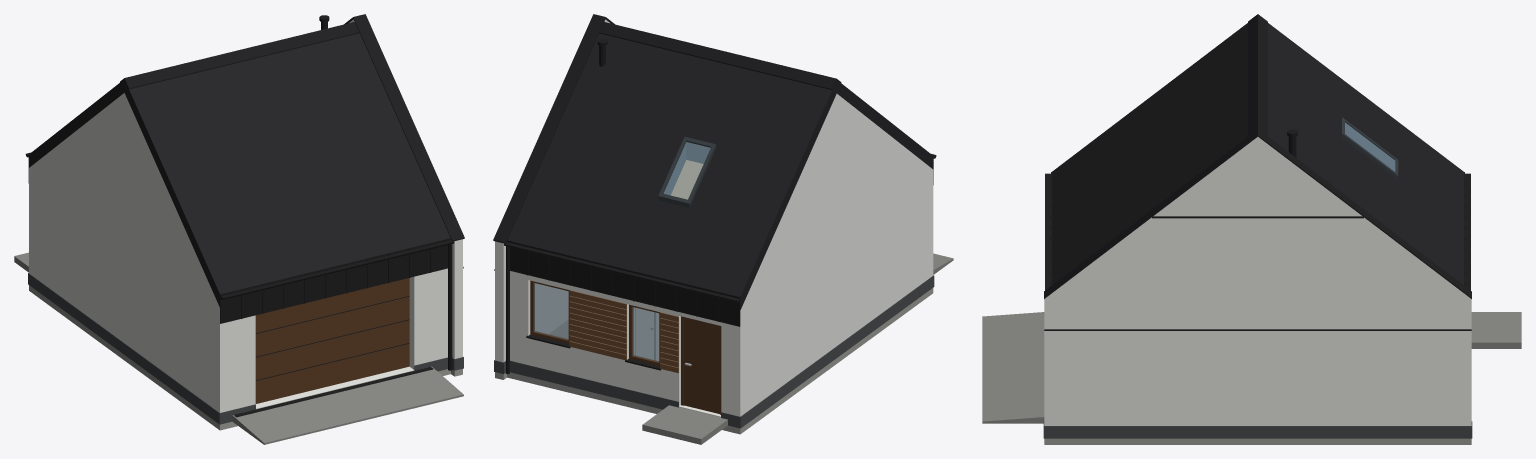
File: garaz_braz.glb
3 renders of one model, left to right at view 1: azimuth 30°, elevation 25°; view 2: azimuth 150°, elevation 25°; view 3: azimuth 270°, elevation 25°, orthographic. The views are drawn at different scales.
Parts seen in each view (by area): view 1: Dach – połać frontowa, Ściana szczytowa lewa (od strony domu), BG <BG brama garażowa segmentowa 400x225>, Ściana frontowa, Podjazd przed bramą (spadek 8%), Pas blachy frontowy, Opierzenie ściany szczytowej, Cokół – tynk mozaikowy, Gąsior, Płyta fundamentowa, Dach – połać ogrodowa, Ściana szczytowa prawa (+5 smaller); view 2: Dach – połać ogrodowa, Ściana szczytowa lewa (od strony domu), Ściana ogrodowa, Pas blachy ogrodowy, Cokół – tynk mozaikowy, Deska elewacyjna – ogród, D1 <D1 drzwi zewnętrzne 90x210>, Opierzenie ściany szczytowej, Gąsior, Ściana szczytowa prawa, OP <OP okno dachowe 78x148>, Płyta fundamentowa (+10 smaller); view 3: Ściana szczytowa prawa, Dach – połać frontowa, Dach – połać ogrodowa, Podjazd przed bramą (spadek 8%), Cokół – tynk mozaikowy, Opierzenie ściany szczytowej, Płyta fundamentowa, Gąsior, Podest przy drzwiach D1, OP <OP okno dachowe 78x148>, Płyta pod ścianą szczytową, Pas blachy na szczycie – dolny (+3 smaller).
Boxes of the visible parts, x1,y1,x2,y2 form: Dach – połać frontowa: (124, 33, 450, 307); Ściana szczytowa lewa (od strony domu): (33, 93, 215, 408); BG <BG brama garażowa segmentowa 400x225>: (255, 278, 409, 403); Ściana frontowa: (215, 268, 447, 412); Podjazd przed bramą (spadek 8%): (232, 366, 463, 444); Pas blachy frontowy: (220, 238, 451, 323); Opierzenie ściany szczytowej: (344, 14, 464, 241); Cokół – tynk mozaikowy: (28, 273, 463, 424); Gąsior: (120, 22, 359, 89); Płyta fundamentowa: (29, 285, 450, 430); Dach – połać ogrodowa: (29, 79, 124, 167); Ściana szczytowa prawa: (349, 19, 462, 358); Dach – połać ogrodowa: (507, 33, 836, 309); Ściana szczytowa lewa (od strony domu): (745, 93, 928, 412); Ściana ogrodowa: (510, 271, 745, 417); Pas blachy ogrodowy: (507, 240, 740, 326); Cokół – tynk mozaikowy: (494, 275, 934, 428); Deska elewacyjna – ogród: (569, 290, 678, 373); D1 <D1 drzwi zewnętrzne 90x210>: (681, 316, 721, 414); Opierzenie ściany szczytowej: (493, 14, 614, 243); Gąsior: (599, 22, 841, 89); Ściana szczytowa prawa: (495, 19, 609, 362); OP <OP okno dachowe 78x148>: (658, 136, 715, 207); Płyta fundamentowa: (507, 288, 933, 434); Ściana szczytowa prawa: (1044, 137, 1471, 425); Dach – połać frontowa: (1052, 23, 1247, 284); Dach – połać ogrodowa: (1268, 23, 1463, 284); Podjazd przed bramą (spadek 8%): (982, 312, 1044, 423); Cokół – tynk mozaikowy: (1043, 421, 1472, 438); Opierzenie ściany szczytowej: (1044, 129, 1471, 298); Płyta fundamentowa: (1052, 438, 1463, 444); Gąsior: (1248, 14, 1267, 135); Podest przy drzwiach D1: (1471, 312, 1521, 348); OP <OP okno dachowe 78x148>: (1342, 117, 1398, 180); Płyta pod ścianą szczytową: (1044, 438, 1471, 444); Pas blachy na szczycie – dolny: (1044, 329, 1471, 330).
Size of what is drawn, in the model's own units: 6.05 by 6.89 by 10.85.
